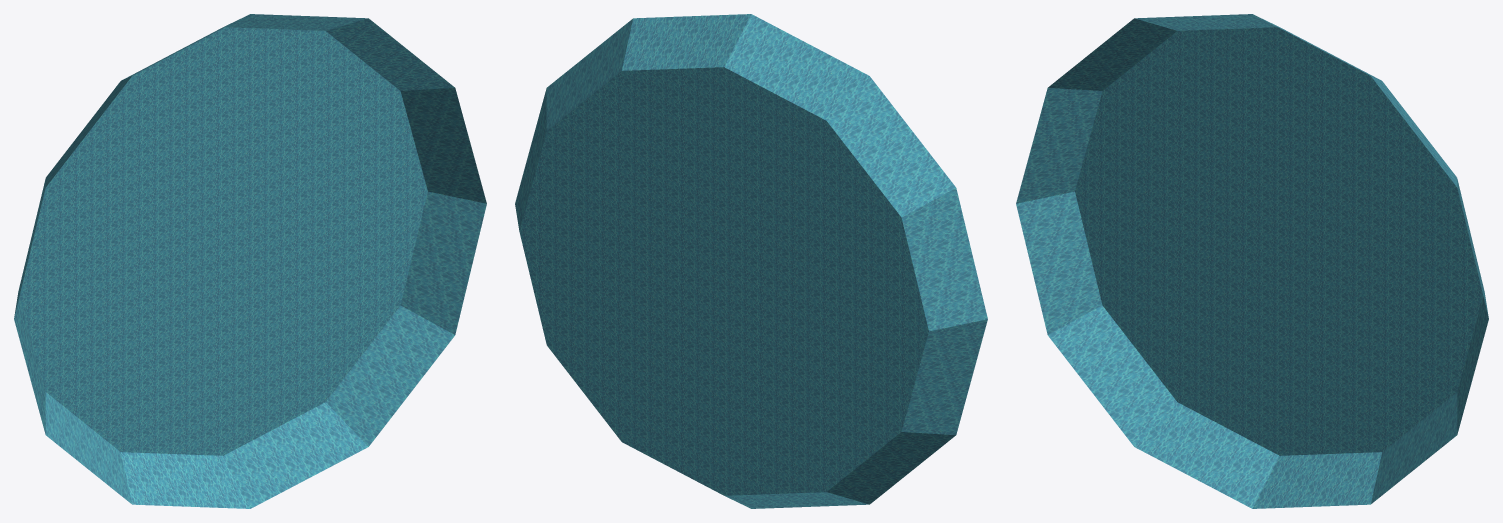
The model's file is Sea.obj.
3 renders of one model, left to right at view 1: azimuth 30°, elevation 25°; view 2: azimuth 150°, elevation 25°; view 3: azimuth 330°, elevation 25°, orthographic.
Visible parts, largest first — view 1: 1_-_Default; view 2: 1_-_Default; view 3: 1_-_Default.
Boxes of the visible parts, x1,y1,x2,y2 form: 1_-_Default: (14, 14, 486, 508); 1_-_Default: (515, 14, 987, 508); 1_-_Default: (1016, 14, 1488, 508).
Bounding box in the file's own units: 200 × 200 × 20.
1 material, 1 textured.
